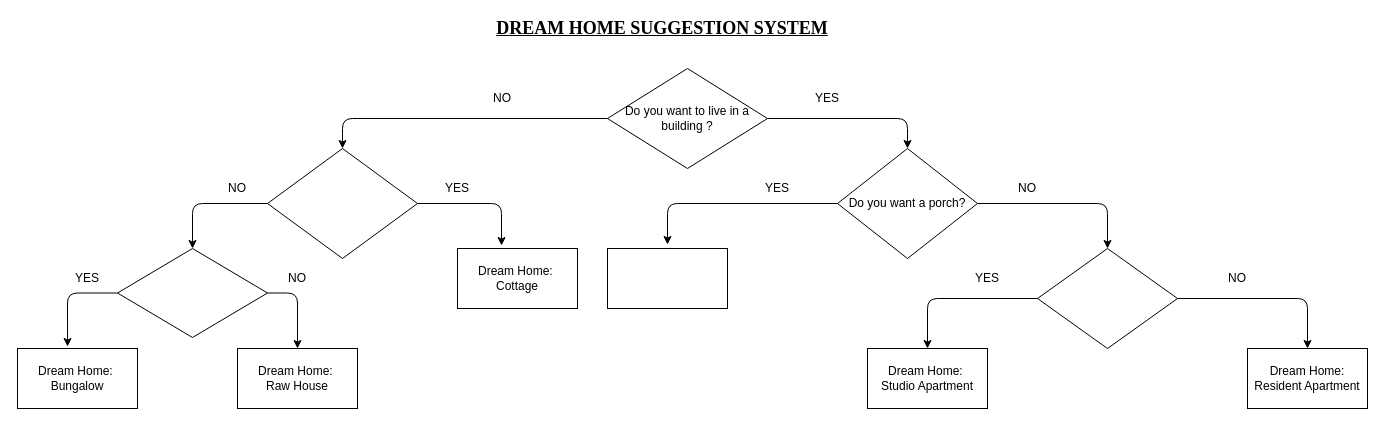
This 1385x426 diagram has some shape labels left out. The centre of each missing label's shape, as x and y in pixels:
Do you want a garden?: [192,293]
Do you want a single main room?: [1107,298]
Do you want more than one storey?: [342,203]
Dream Home: Penthouse: [667,278]
